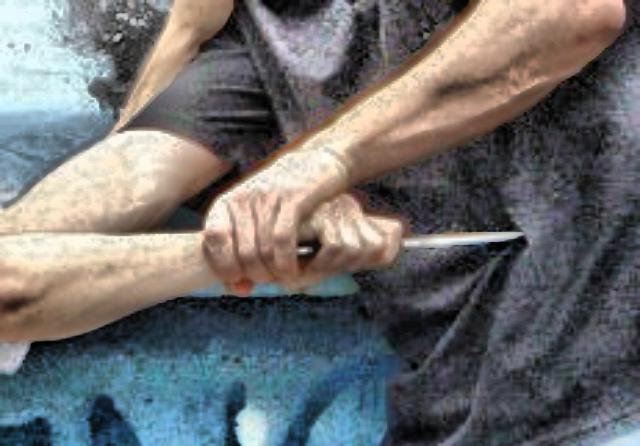knife: (228, 208, 542, 274)
